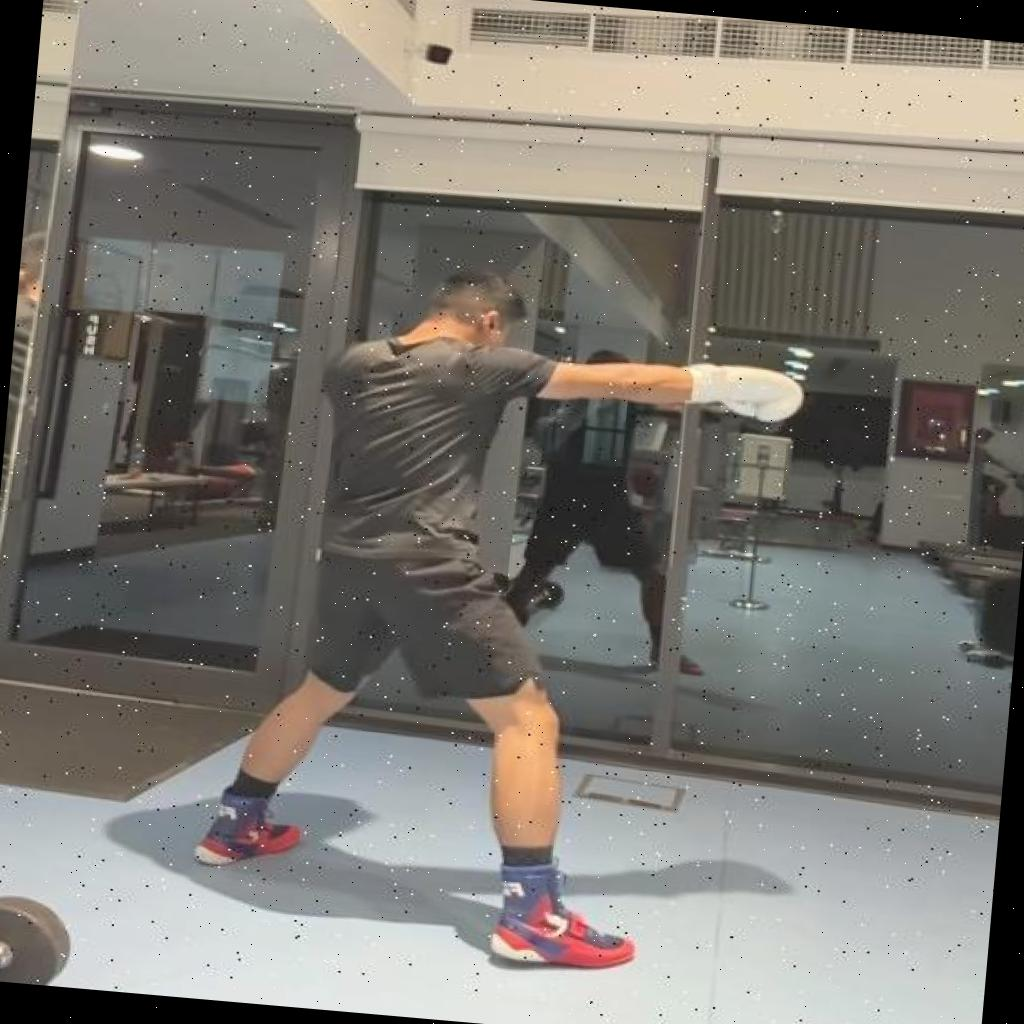jab: (184, 248, 818, 988)
